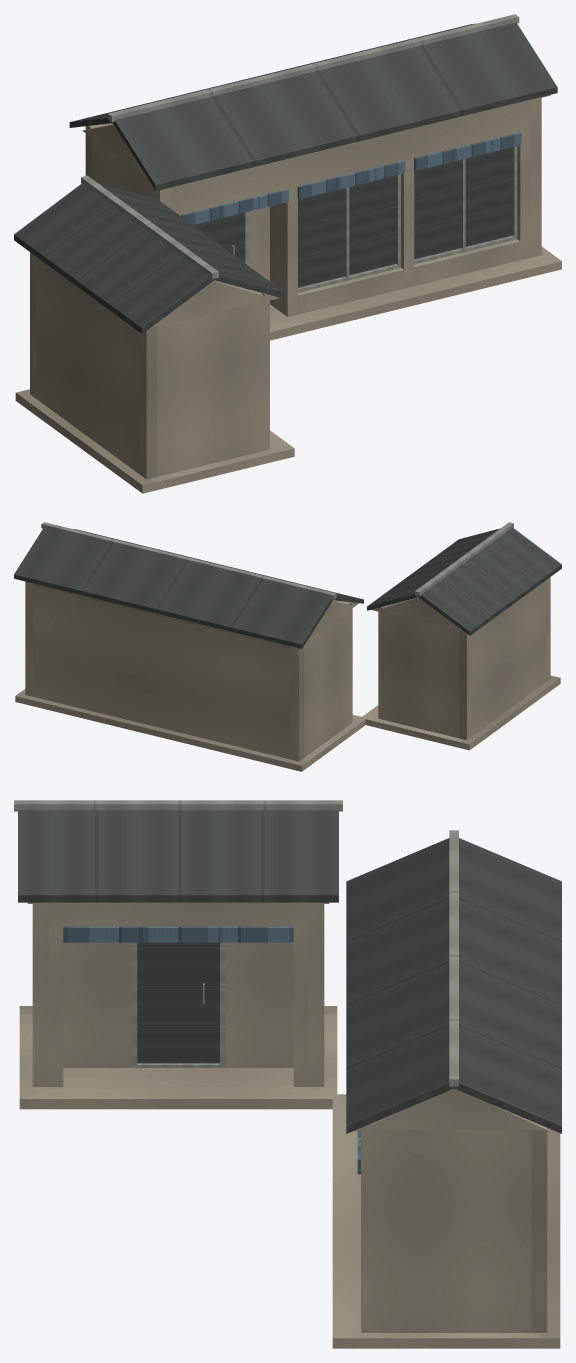
3 renders of one model, top to bottom at view 1: azimuth 30°, elevation 25°; view 2: azimuth 150°, elevation 25°; view 3: azimuth 270°, elevation 25°, orthographic. The views are drawn at different scales.
Parts seen in each view (by area): view 1: san-marino; view 2: san-marino; view 3: san-marino.
Boxes of the visible parts, left/top/right/bottom form: san-marino: left=14, top=14, right=561, bottom=493; san-marino: left=14, top=522, right=561, bottom=771; san-marino: left=14, top=800, right=561, bottom=1348.
Size of the model in its own units: 8.6 by 3.25 by 5.94.
Materials: 1 (1 with a texture image).
